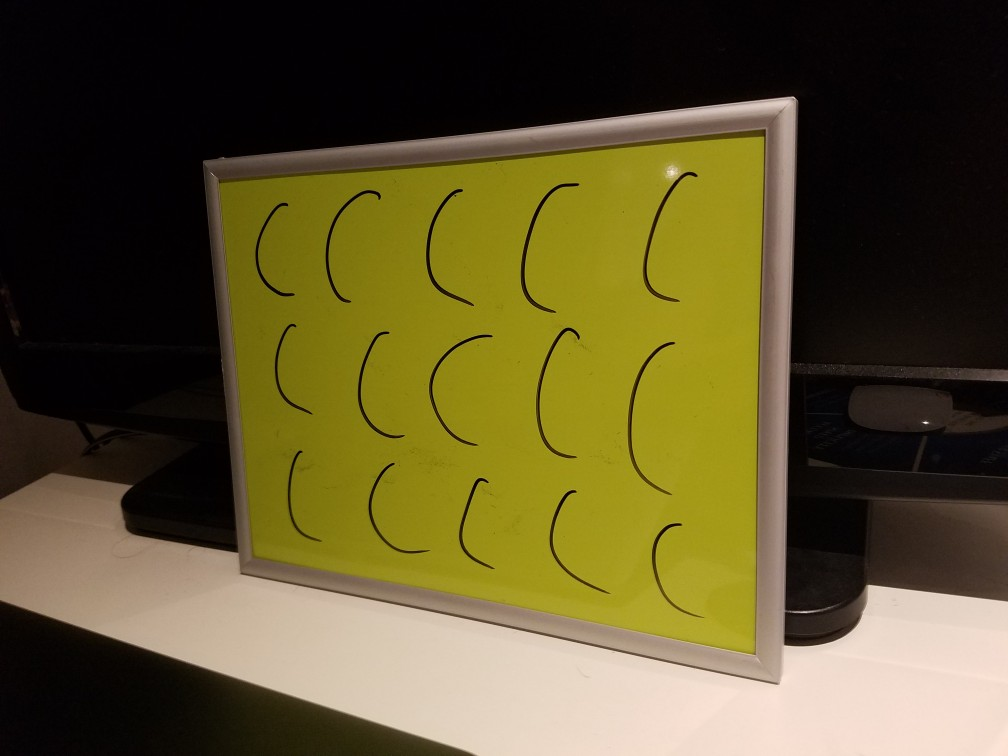(: (621, 335, 685, 499), (513, 174, 585, 316), (635, 162, 701, 309), (527, 326, 593, 469), (422, 328, 494, 454), (540, 481, 611, 604), (413, 181, 479, 312), (357, 454, 433, 565), (635, 512, 707, 622), (346, 323, 406, 446), (321, 186, 380, 311), (257, 318, 321, 429), (450, 465, 509, 581), (244, 193, 300, 301), (276, 441, 320, 545)
